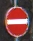No entry: (5, 6, 28, 36)
